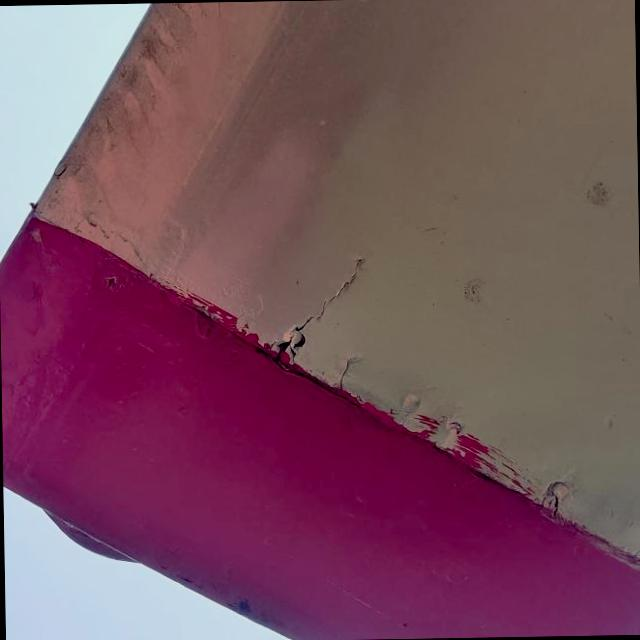crack: (262, 248, 372, 370), (328, 349, 362, 398), (542, 482, 566, 524)
